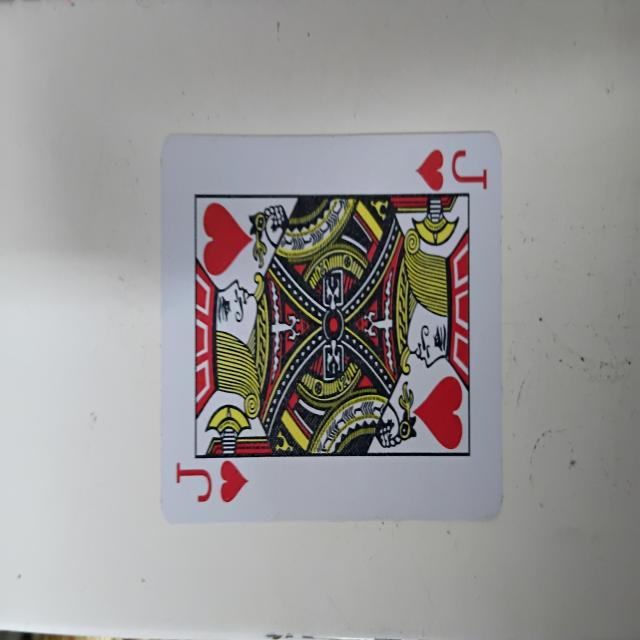JH: (157, 124, 506, 530)
